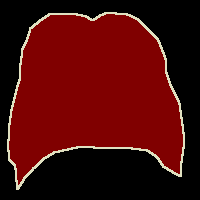hat: (8, 12, 184, 189)
